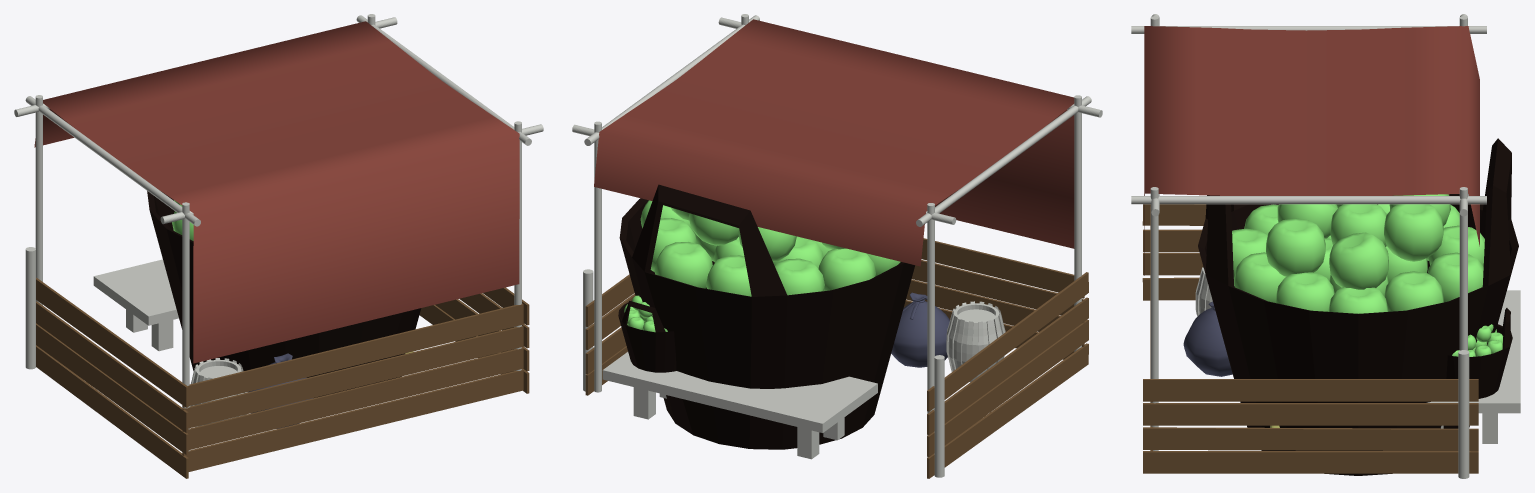
The model's file is merchant_tent_2_0.fbx.
3 views of the same model, side by side, from view 1: azimuth 30°, elevation 25°; view 2: azimuth 150°, elevation 25°; view 3: azimuth 270°, elevation 25° (orthographic). The views are drawn at different scales.
Parts seen in each view (by area): view 1: Plane, Cube.002, Cube, Cube.003, Cube.001, Circle.002, table, Cube.005, Cube.004, Cube.007, Cube.006, pole.007 (+10 smaller); view 2: Plane, Circle.002, table, Cube.004, Cube.005, Cube.007, Cube.006, Cube.003, Cube.002, barrel, bag, Circle.001 (+19 smaller); view 3: Plane, Circle.002, Cube.009, Cube.011, Cube.010, Cube.008, pole.006, table, apple.042, apple.039, apple.044, bag (+21 smaller).
Boxes of the visible parts, left/top/right/bottom form: Plane: left=34, top=21, right=519, bottom=363; Cube.002: left=182, top=325, right=523, bottom=428; Cube: left=182, top=369, right=524, bottom=471; Cube.003: left=182, top=303, right=524, bottom=407; Cube.001: left=182, top=347, right=523, bottom=449; Circle.002: left=147, top=191, right=421, bottom=397; table: left=93, top=259, right=178, bottom=351; Cube.005: left=36, top=301, right=188, bottom=432; Cube.004: left=36, top=278, right=188, bottom=407; Cube.007: left=36, top=345, right=188, bottom=478; Cube.006: left=36, top=323, right=188, bottom=454; pole.007: left=25, top=96, right=200, bottom=226; Plane: left=594, top=19, right=1074, bottom=266; Circle.002: left=619, top=184, right=914, bottom=449; table: left=602, top=352, right=877, bottom=459; Cube.004: left=927, top=272, right=1088, bottom=411; Cube.005: left=927, top=297, right=1088, bottom=434; Cube.007: left=927, top=343, right=1088, bottom=478; Cube.006: left=927, top=319, right=1088, bottom=456; Cube.003: left=921, top=238, right=1084, bottom=298; Cube.002: left=911, top=260, right=1084, bottom=315; barrel: left=946, top=301, right=1005, bottom=382; bag: left=891, top=292, right=949, bottom=367; Circle.001: left=618, top=300, right=676, bottom=372; Plane: left=1144, top=26, right=1479, bottom=275; Circle.002: left=1198, top=138, right=1518, bottom=475; Cube.009: left=1143, top=427, right=1478, bottom=451; Cube.011: left=1143, top=379, right=1478, bottom=401; Cube.010: left=1143, top=403, right=1478, bottom=425; Cube.008: left=1143, top=451, right=1478, bottom=473; pole.006: left=1131, top=196, right=1486, bottom=204; table: left=1427, top=290, right=1520, bottom=443; apple.042: left=1384, top=204, right=1443, bottom=261; apple.039: left=1266, top=218, right=1325, bottom=276; apple.044: left=1329, top=232, right=1388, bottom=289; bag: left=1183, top=301, right=1232, bottom=376.
Size of the model in its own units: 2.38 by 1.73 by 2.01.
